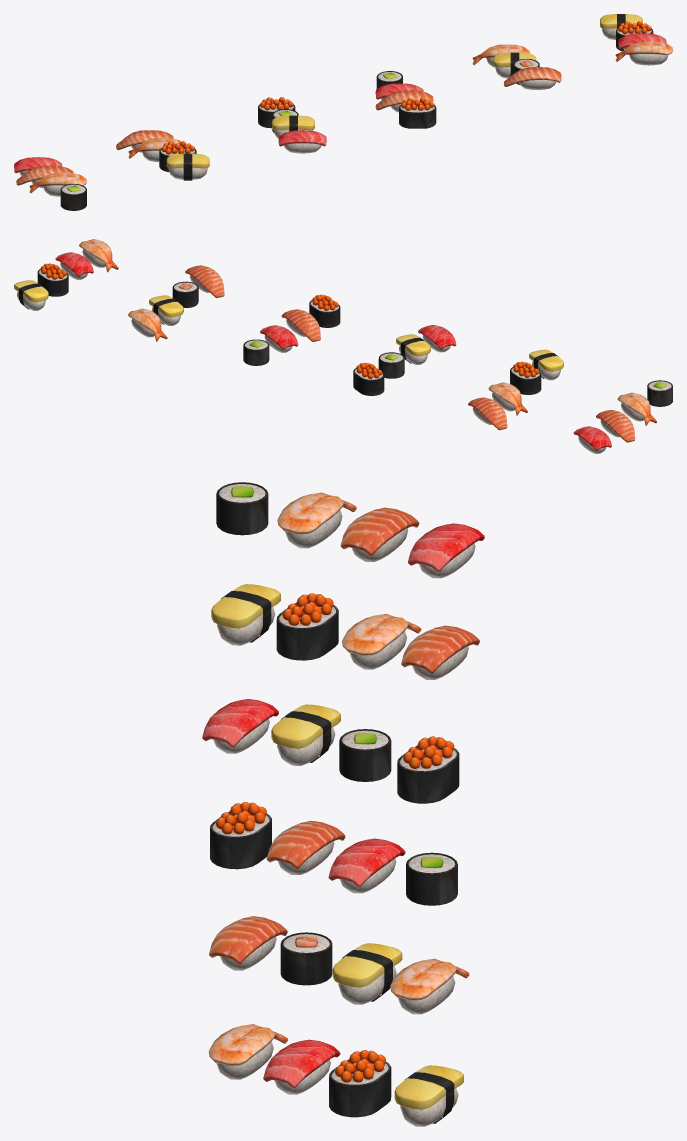
File: JapaneseRestaurant_Sushi.fbx
3 renders of one model, top to bottom at view 1: azimuth 30°, elevation 25°; view 2: azimuth 150°, elevation 25°; view 3: azimuth 270°, elevation 25°, orthographic. The views are drawn at different scales.
Visible parts, largest first — view 1: JapaneseRestaurant_Sushi; view 2: JapaneseRestaurant_Sushi; view 3: JapaneseRestaurant_Sushi.
Boxes of the visible parts, x1,y1,x2,y2 form: JapaneseRestaurant_Sushi: (14,14,672,210); JapaneseRestaurant_Sushi: (14,239,672,453); JapaneseRestaurant_Sushi: (202,482,484,1126).
Bounding box in the file's own units: 102 × 5.95 × 20.14.
